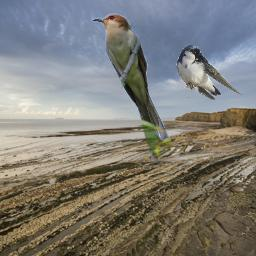Cuckoo: (92, 13, 171, 163)
Swallow: (175, 44, 243, 101)
